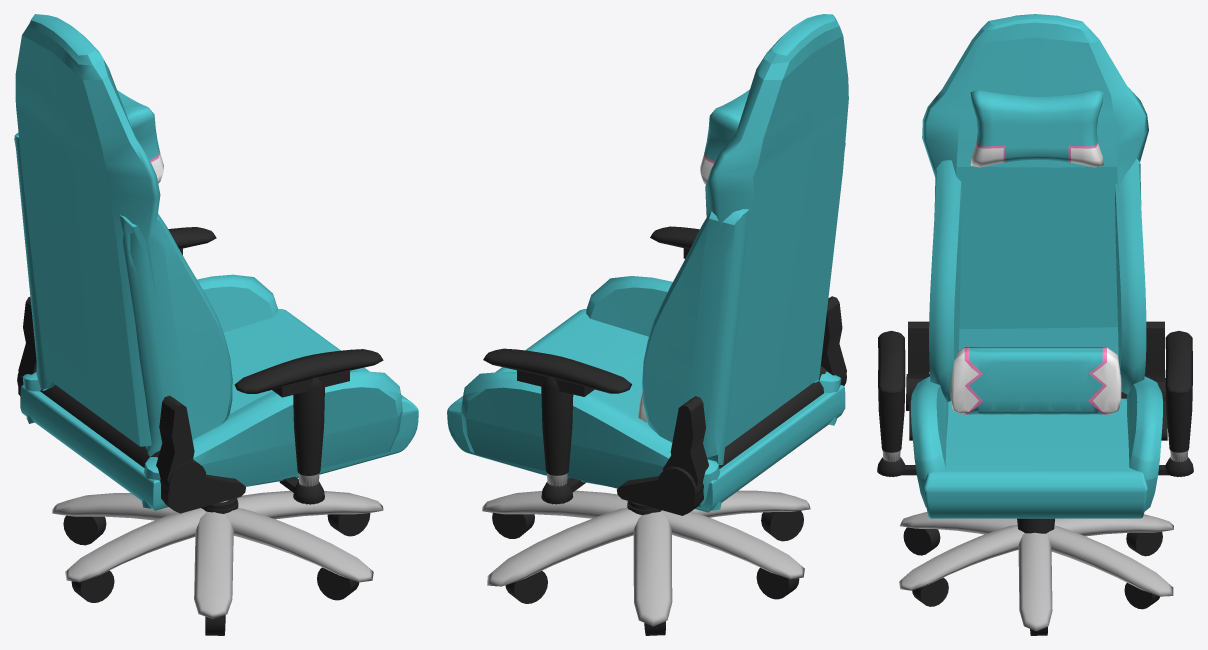
3 renders of one model, left to right at view 1: azimuth 30°, elevation 25°; view 2: azimuth 150°, elevation 25°; view 3: azimuth 270°, elevation 25°, orthographic. The views are drawn at different scales.
Parts seen in each view (by area): view 1: Object_12, Object_9, Object_11, Object_7, Object_2; view 2: Object_12, Object_11, Object_9, Object_7, Object_2; view 3: Object_12, Object_6, Object_11, Object_9, Object_7, Object_2, Object_8, Object_4, Object_3.
Boxes of the visible parts, box(x1,y1,x2,y2) form: Object_12: box(14, 14, 418, 510); Object_9: box(52, 490, 383, 582); Object_11: box(18, 227, 383, 602); Object_7: box(17, 297, 370, 635); Object_2: box(194, 511, 233, 618); Object_12: box(447, 14, 848, 512); Object_11: box(483, 226, 846, 599); Object_9: box(482, 490, 804, 626); Object_7: box(492, 366, 846, 635); Object_2: box(487, 490, 810, 586); Object_12: box(911, 14, 1162, 518); Object_6: box(956, 166, 1118, 329); Object_11: box(877, 321, 1193, 476); Object_9: box(899, 514, 1173, 631); Object_7: box(903, 321, 1165, 635); Object_2: box(900, 512, 1173, 596); Object_8: box(950, 347, 1121, 414); Object_4: box(970, 144, 1103, 167); Object_3: box(963, 347, 1108, 414).
Size of the model in its own units: 4.52 by 7.58 by 4.34.
